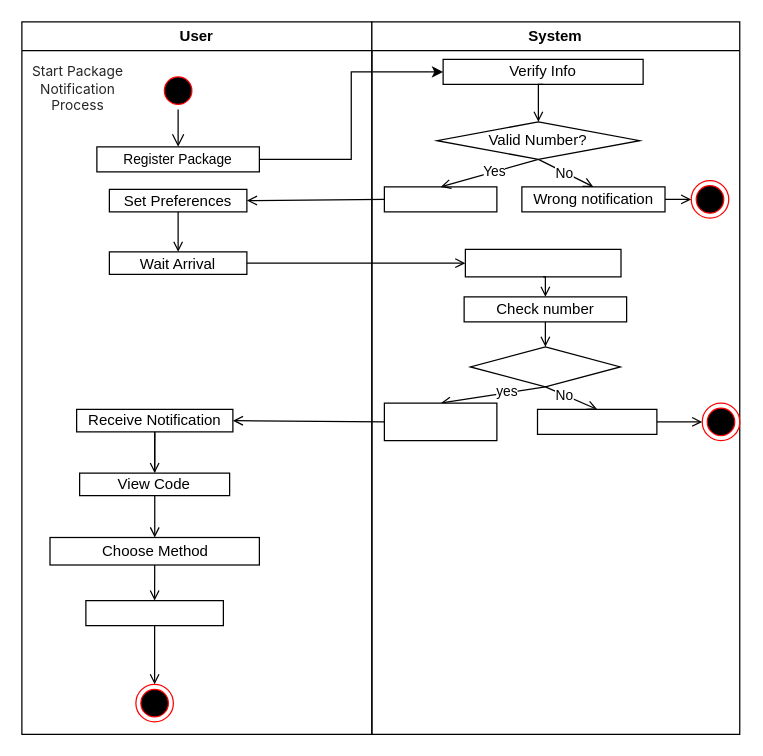
The diagram is 763 pixels wide and 756 high, and some of its shapes have lost their labels. Each missing label, with the centre of its shape:
"Arrive Campus" goes at [542,262].
"Create Record" goes at [440,199].
"Generate and Send Code" goes at [440,421].
"Go Pickup" goes at [154,612].
"Is registered?" goes at [544,366].
"Outer System" goes at [596,421].
